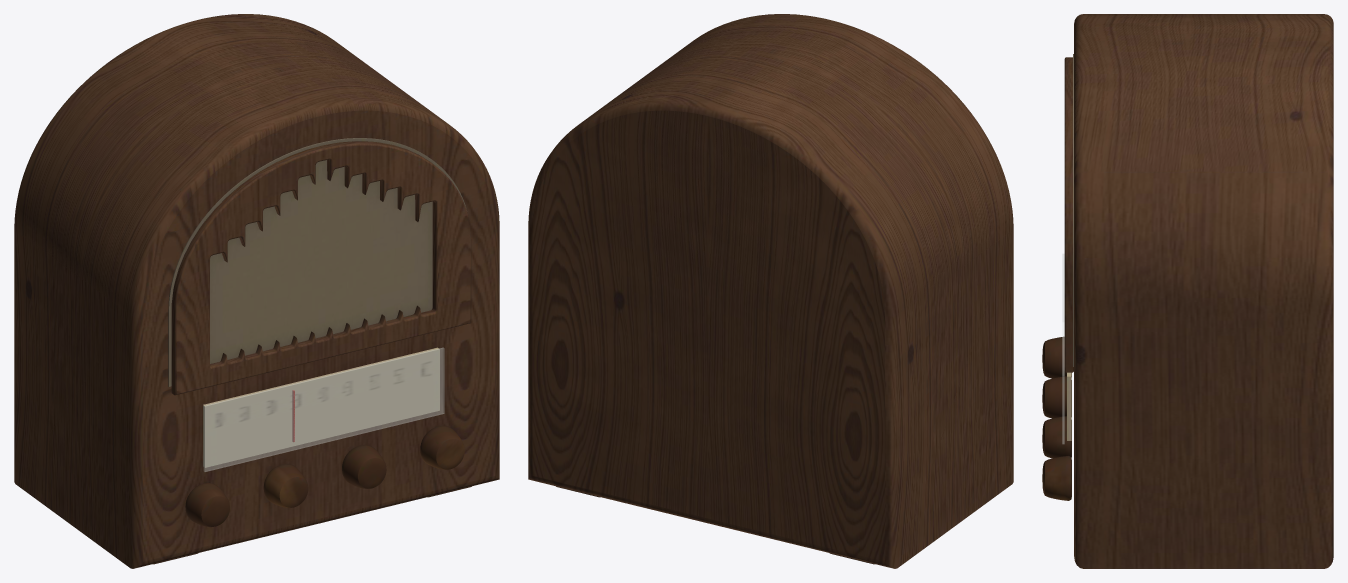
The model's file is tube_radio.glb.
3 views of the same model, side by side, from view 1: azimuth 30°, elevation 25°; view 2: azimuth 150°, elevation 25°; view 3: azimuth 270°, elevation 25° (orthographic). The views are drawn at different scales.
Parts seen in each view (by area): view 1: tube_radio; view 2: tube_radio; view 3: tube_radio.
Boxes of the visible parts, x1,y1,x2,y2 form: tube_radio: (14, 14, 499, 568); tube_radio: (528, 14, 1013, 568); tube_radio: (1042, 14, 1333, 568).
Bounding box in the file's own units: 0.376 × 0.4129 × 0.247.
Materials: 2 (1 with a texture image).
